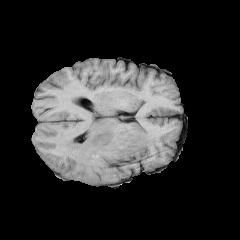glioma: (57, 116, 153, 165)
